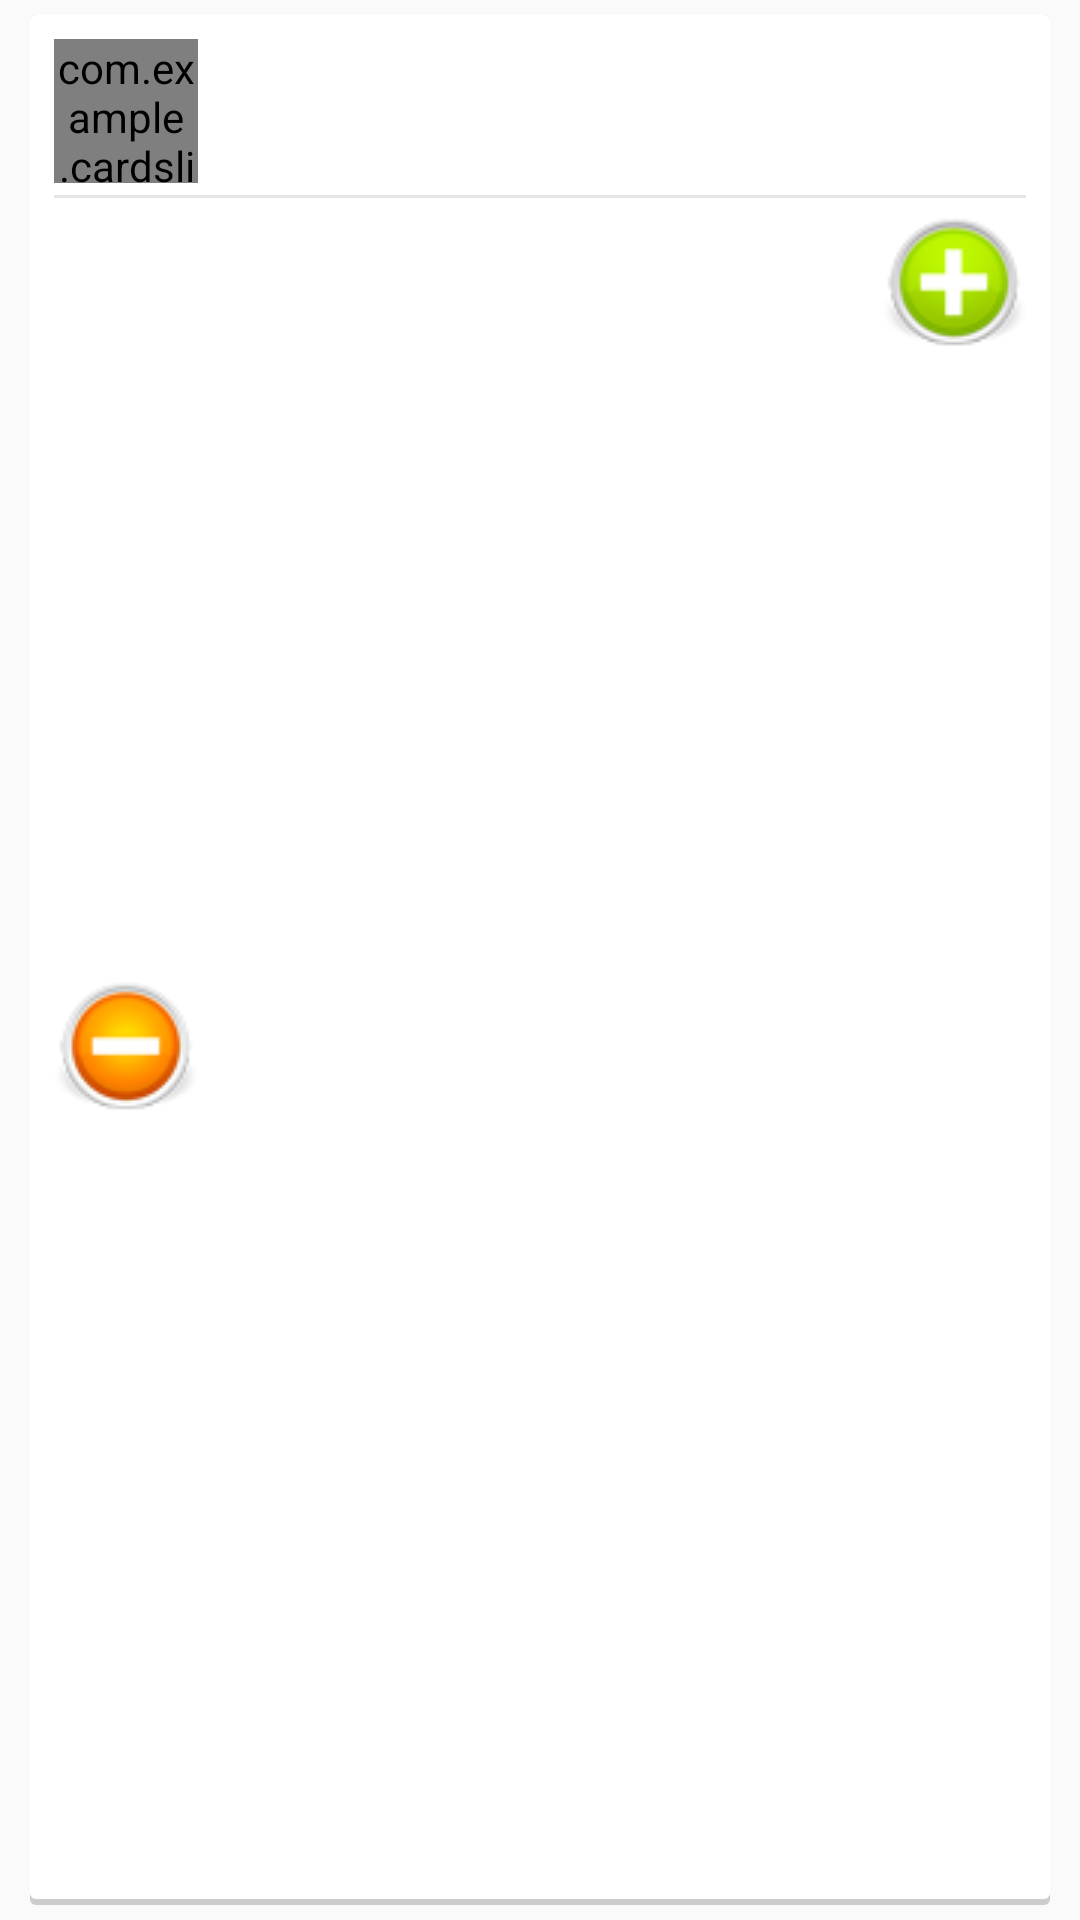

Named icons in this screenshot (1080px x 1920px) and their centers, [x,y]:
minus: [125,1047]
plus: [953,283]
